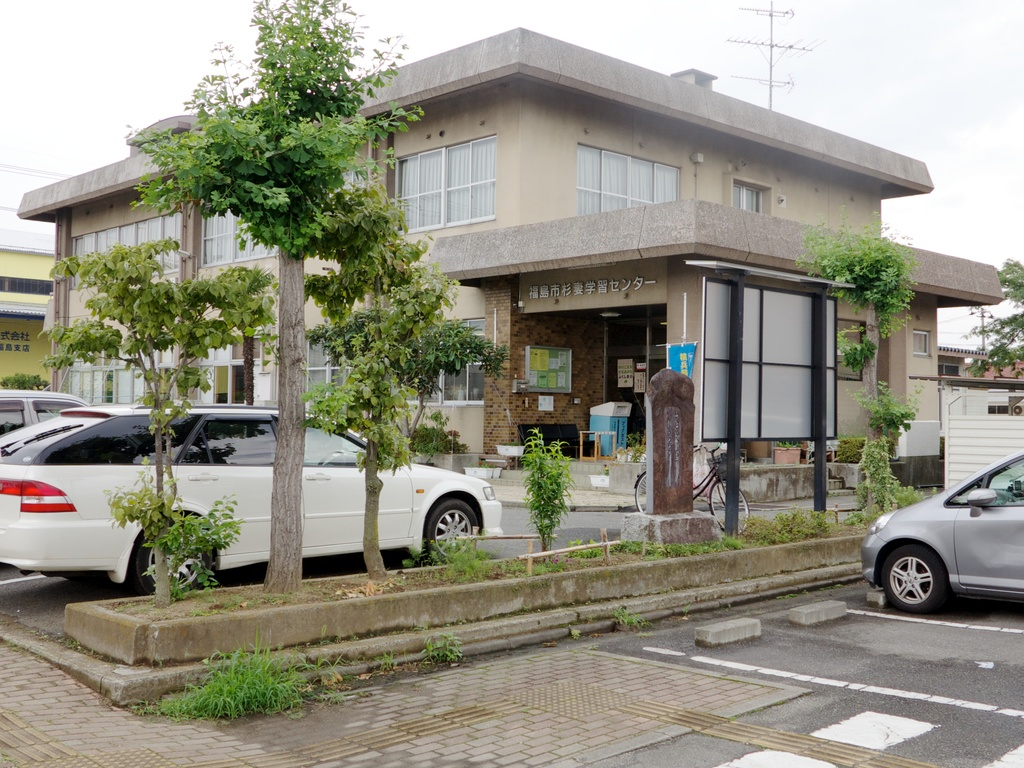mobil: (1, 396, 512, 574), (858, 441, 1024, 613)
